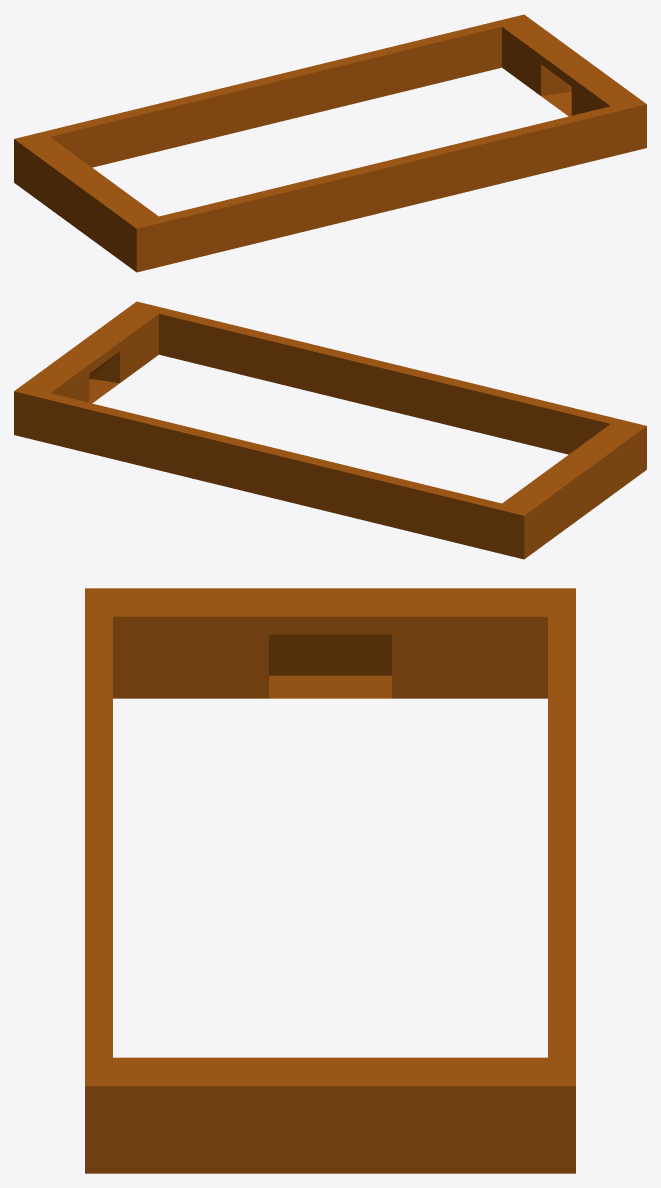
The model's file is Table_edge.glb.
3 renders of one model, top to bottom at view 1: azimuth 30°, elevation 25°; view 2: azimuth 150°, elevation 25°; view 3: azimuth 270°, elevation 25°, orthographic. The views are drawn at different scales.
Visible parts, largest first — view 1: Table_edge; view 2: Table_edge; view 3: Table_edge.
Part boxes in pixels (x1,y1,x2,y2): Table_edge: (14,14,646,272); Table_edge: (14,301,646,559); Table_edge: (85,588,575,1173).
Size of the model in its own units: 96 by 7.86 by 40.
